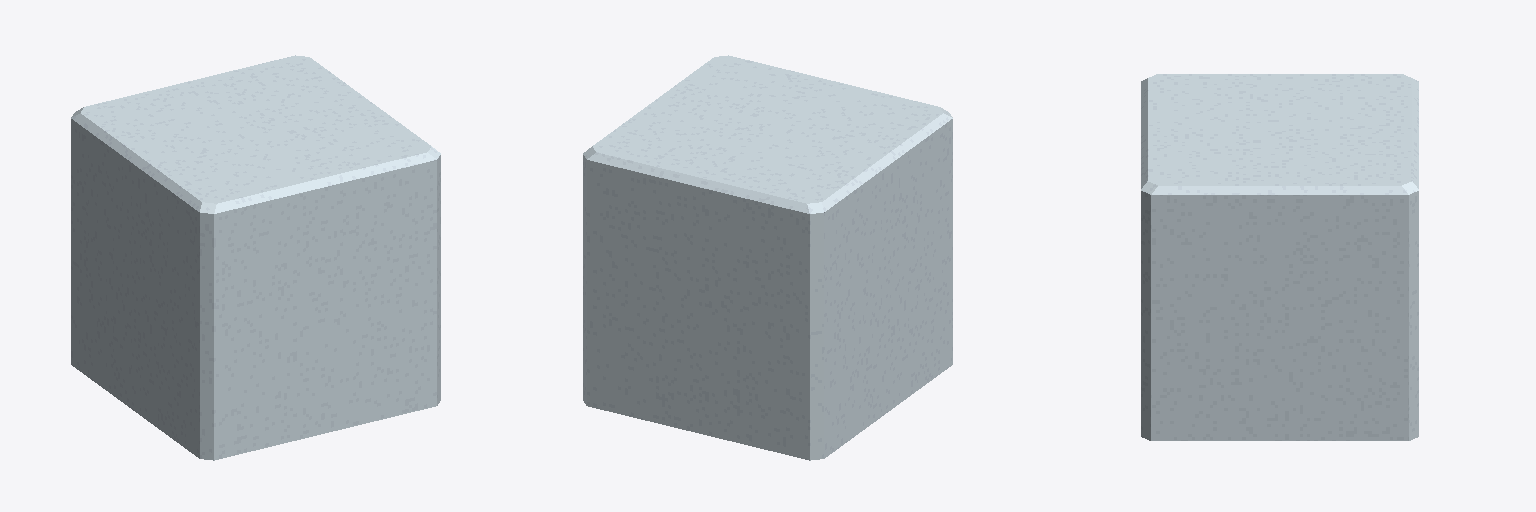
The picture shows the model from 3 angles: view 1: azimuth 30°, elevation 25°; view 2: azimuth 150°, elevation 25°; view 3: azimuth 270°, elevation 25°; orthographic projection.
Visible parts, largest first — view 1: Wall_Cube.002; view 2: Wall_Cube.002; view 3: Wall_Cube.002.
Part boxes in pixels (x1,y1,x2,y2): Wall_Cube.002: (71, 55, 440, 460); Wall_Cube.002: (583, 55, 952, 460); Wall_Cube.002: (1141, 74, 1418, 440).
Bounding box in the file's own units: 2 × 2 × 2.
Materials: 1 (1 with a texture image).